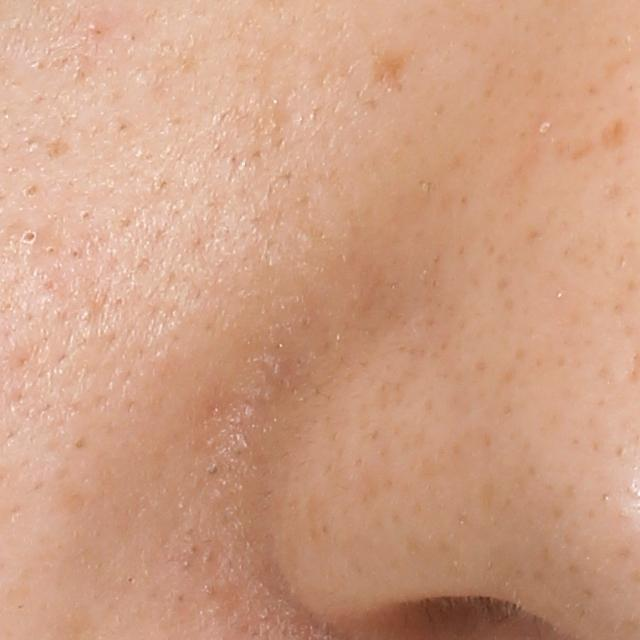comedo: (18, 180, 45, 203)
melasma: (367, 46, 418, 91)
